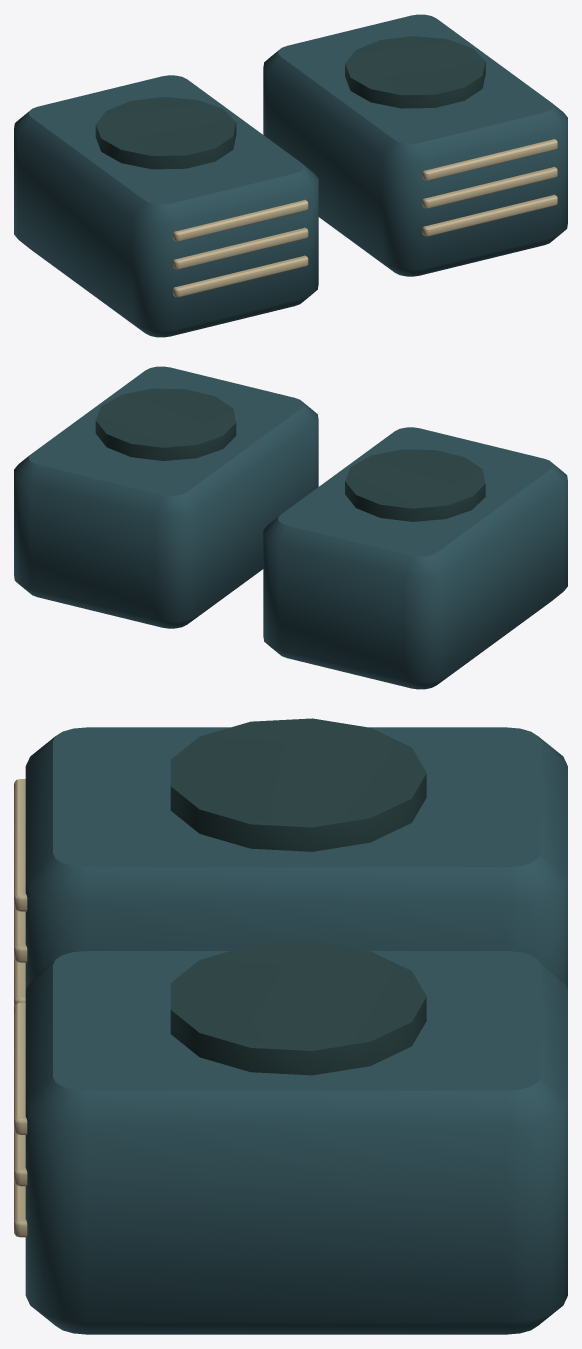
The model's file is harbor_truck_service_3.glb.
The picture shows the model from 3 angles, top to bottom: view 1: azimuth 30°, elevation 25°; view 2: azimuth 150°, elevation 25°; view 3: azimuth 270°, elevation 25°; orthographic projection. The views are drawn at different scales.
Parts seen in each view (by area): view 1: HarborTruckService3; view 2: HarborTruckService3; view 3: HarborTruckService3.
Boxes of the visible parts, left/top/right/bottom form: HarborTruckService3: left=14, top=14, right=567, bottom=337; HarborTruckService3: left=14, top=366, right=567, bottom=689; HarborTruckService3: left=14, top=718, right=567, bottom=1334.
Size of the model in its own units: 2.04 by 0.66 by 1.24.
